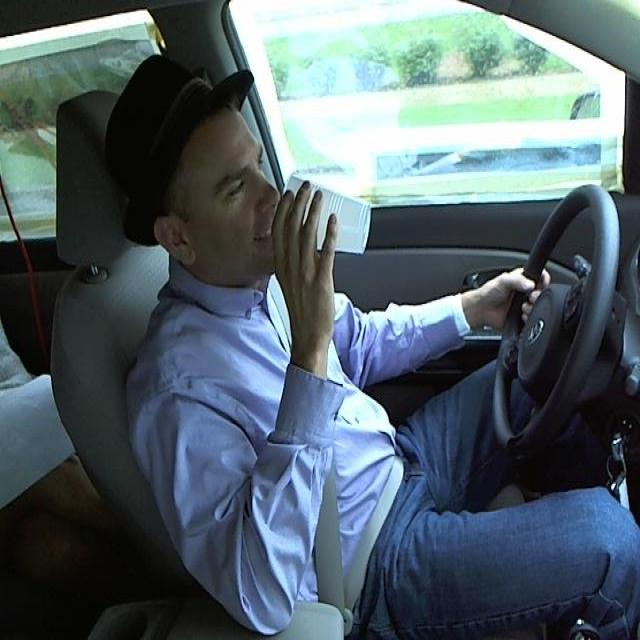drinking: (278, 167, 374, 257)
